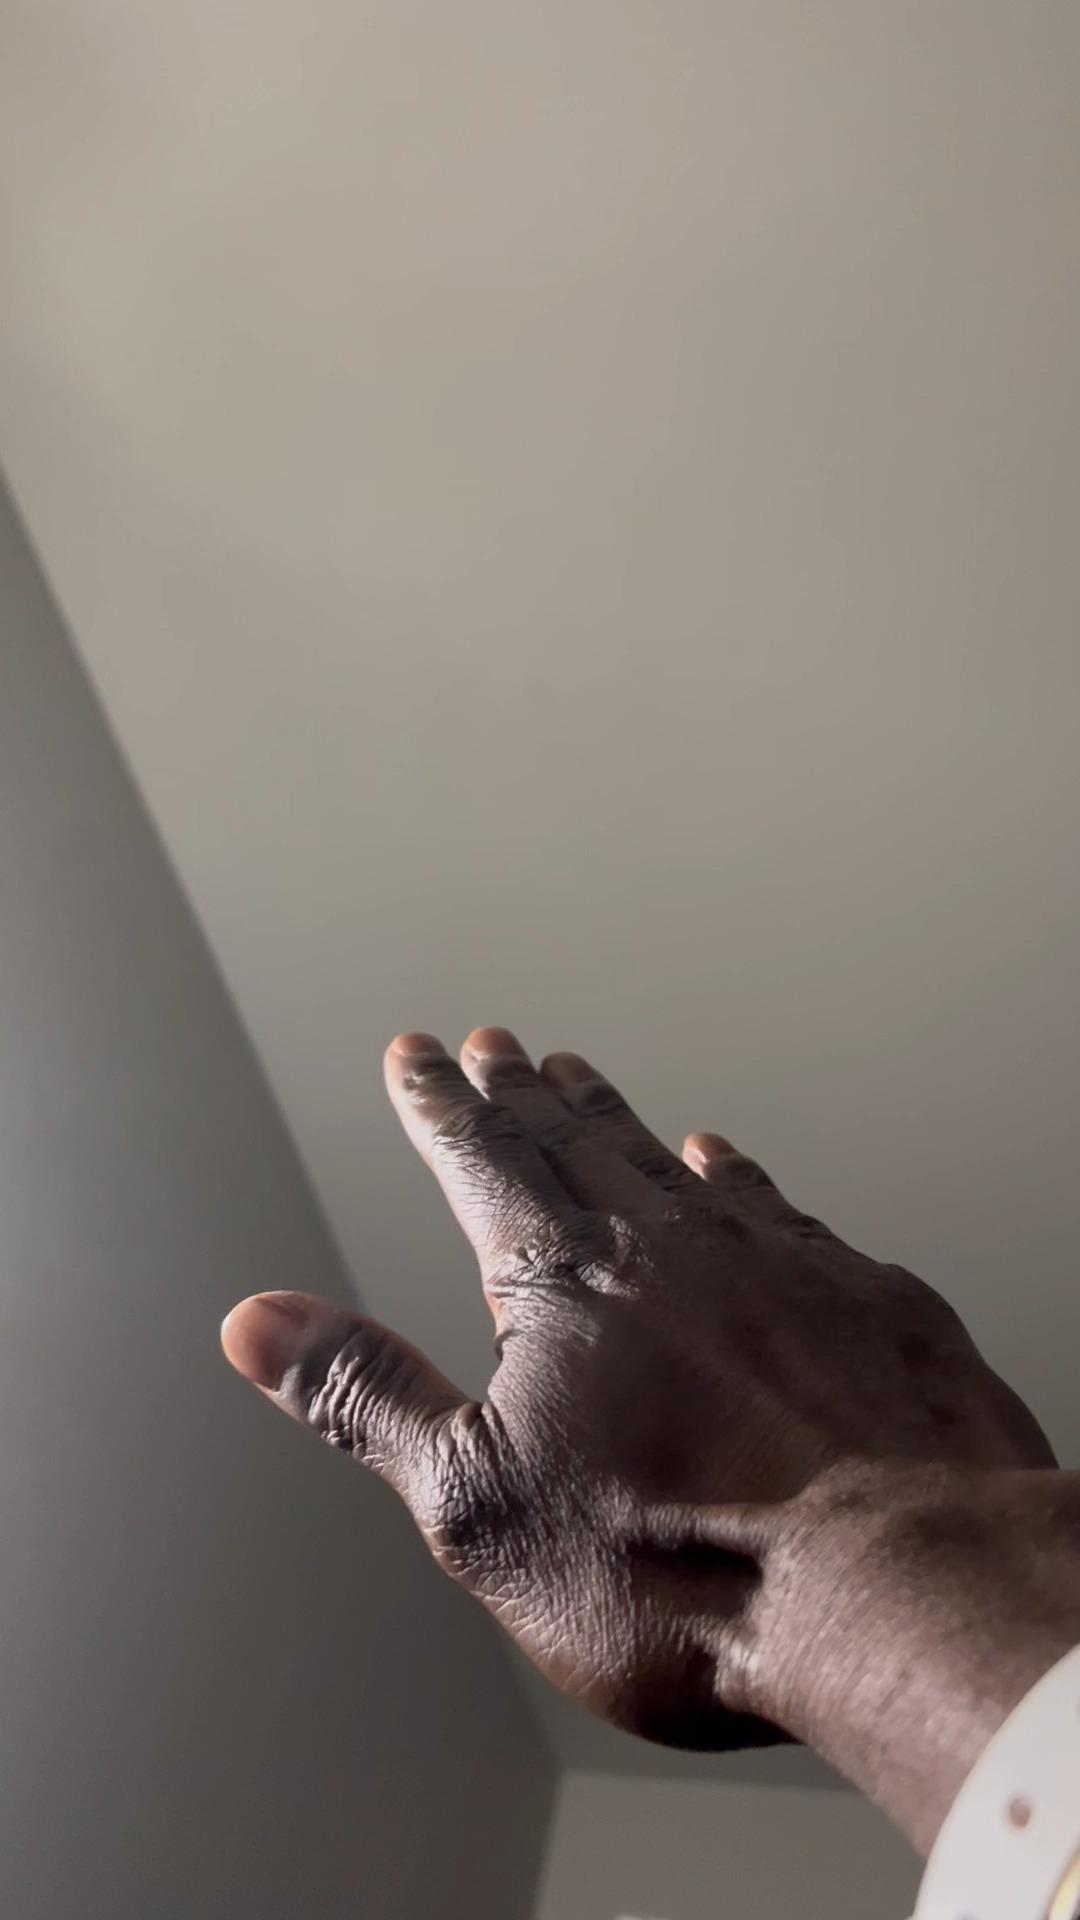Paper: (217, 1023, 1080, 1759)
